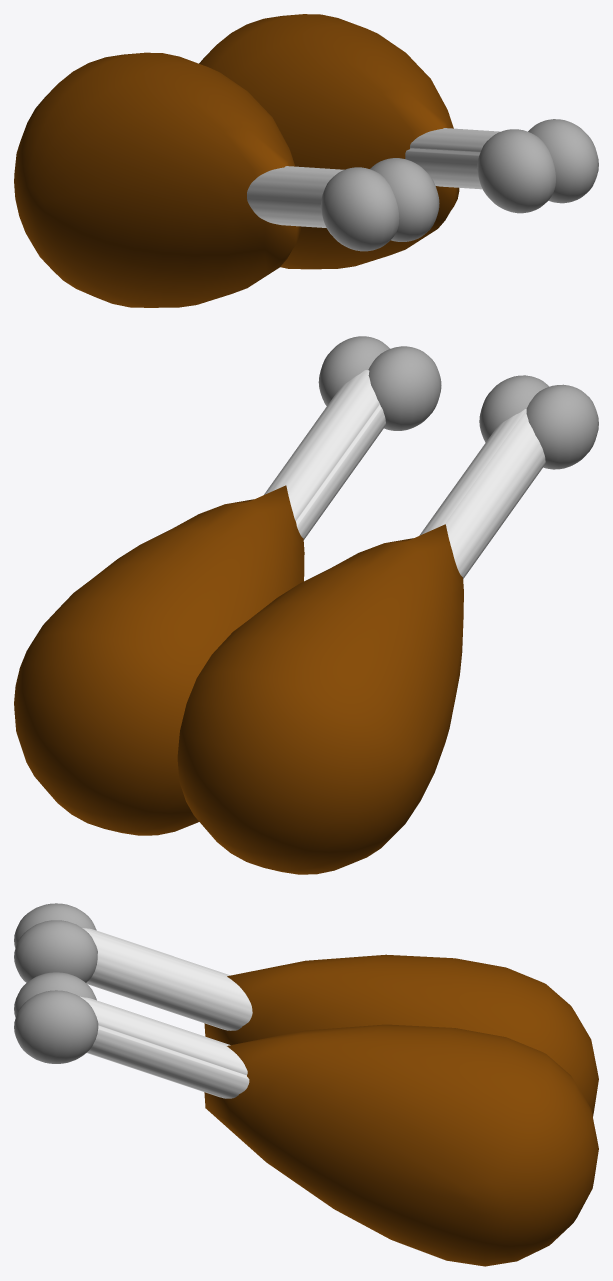
File: ChikenSuppliesKFC.fbx
The picture shows the model from 3 angles, top to bottom: view 1: azimuth 30°, elevation 25°; view 2: azimuth 150°, elevation 25°; view 3: azimuth 270°, elevation 25°; orthographic projection. The views are drawn at different scales.
Visible parts, largest first — view 1: pSphere1, pasted__pSphere3, pSphere5, pSphere3, pCylinder1, pasted__pCylinder2, pSphere4, pSphere2; view 2: pSphere1, pasted__pSphere3, pCylinder1, pasted__pCylinder2, pSphere5, pSphere3, pSphere4, pSphere2; view 3: pasted__pSphere3, pSphere1, pCylinder1, pasted__pCylinder2, pSphere4, pSphere2, pSphere5, pSphere3.
Boxes of the visible parts, x1,y1,x2,y2 form: pSphere1: [14, 52, 300, 307]; pasted__pSphere3: [199, 14, 459, 269]; pSphere5: [477, 129, 555, 213]; pSphere3: [320, 167, 399, 251]; pCylinder1: [247, 166, 344, 227]; pasted__pCylinder2: [405, 128, 500, 189]; pSphere4: [528, 119, 598, 203]; pSphere2: [370, 158, 439, 241]; pSphere1: [177, 524, 463, 874]; pasted__pSphere3: [14, 485, 304, 835]; pCylinder1: [419, 409, 545, 578]; pasted__pCylinder2: [264, 370, 385, 539]; pSphere5: [368, 346, 441, 430]; pSphere3: [526, 384, 598, 469]; pSphere4: [318, 336, 390, 405]; pSphere2: [479, 375, 549, 442]; pasted__pSphere3: [204, 1024, 598, 1266]; pSphere1: [204, 954, 598, 1116]; pCylinder1: [82, 928, 252, 1030]; pasted__pCylinder2: [80, 996, 249, 1098]; pSphere4: [14, 990, 98, 1063]; pSphere2: [14, 920, 97, 982]; pSphere5: [14, 972, 96, 1017]; pSphere3: [14, 903, 96, 947].
Bounding box in the file's own units: 3.42 × 2.59 × 5.05.
